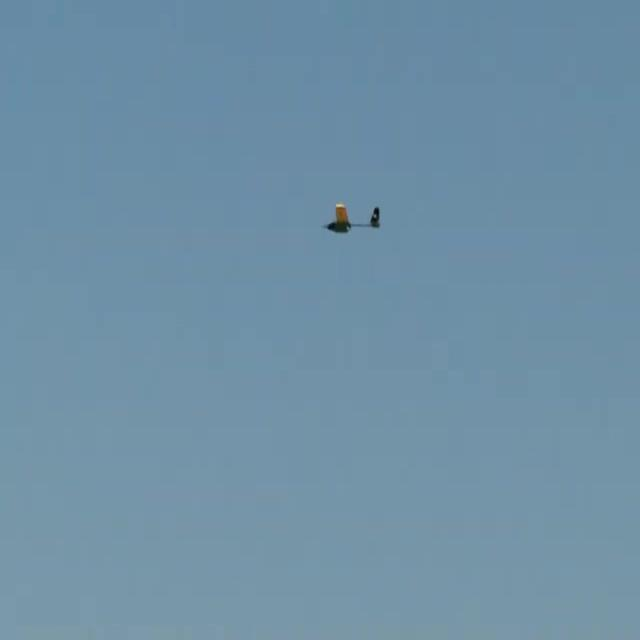iha: (321, 203, 380, 235)
